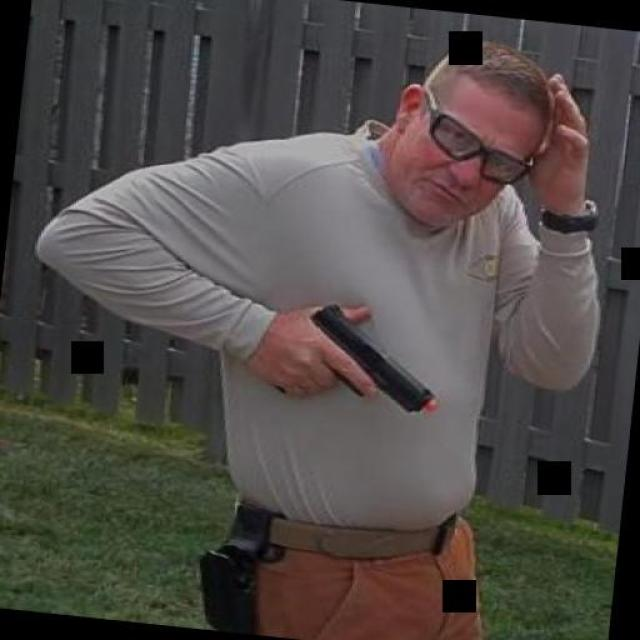gun: (272, 294, 448, 416)
